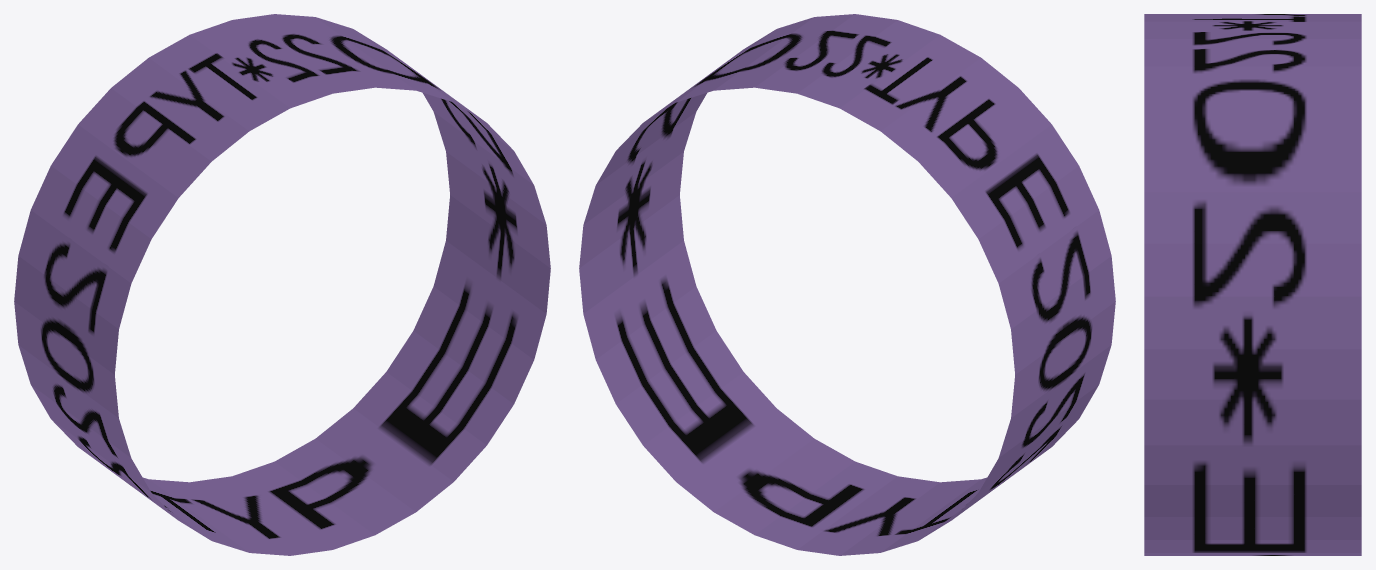
File: TYPEEXPERIMENT.gltf
The picture shows the model from 3 angles, left to right: view 1: azimuth 30°, elevation 25°; view 2: azimuth 150°, elevation 25°; view 3: azimuth 270°, elevation 25°; orthographic projection. The views are drawn at different scales.
Visible parts, largest first — view 1: Cylinder.001; view 2: Cylinder.001; view 3: Cylinder.001.
Part boxes in pixels (<box>): Cylinder.001: <box>14,14,550,555</box>; Cylinder.001: <box>579,14,1115,555</box>; Cylinder.001: <box>1144,14,1361,555</box>.
Size of the model in its own units: 1.85 by 1.85 by 0.7415.
1 material, 1 textured.
